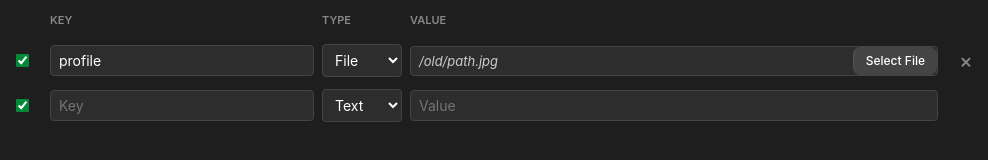
Test case: FormDataEditor.vue › handles file types and file selection
This screenshot has width=988, height=160.
expect the text with class "file-path" reads "/old/path.jpg": met, box x1=419 y1=52 x2=498 y2=68
# Change type to text
Select "Text" in the dropdown next to "/old/path.jpg" at x=362, y=60, box x1=322 y1=44 x2=402 y2=77
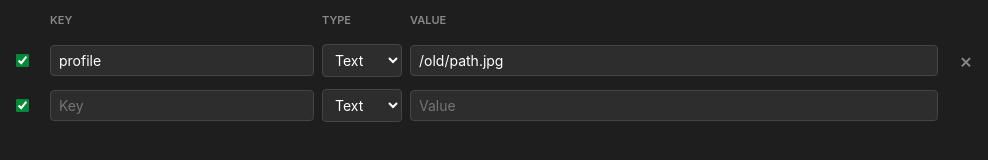
expect the 2nd field with placeholder "Value" is shown: met, box x1=410 y1=45 x2=938 y2=76
# Change back to file
Select "File" in the 1st dropdown at x=362, y=60, box x1=322 y1=44 x2=402 y2=77
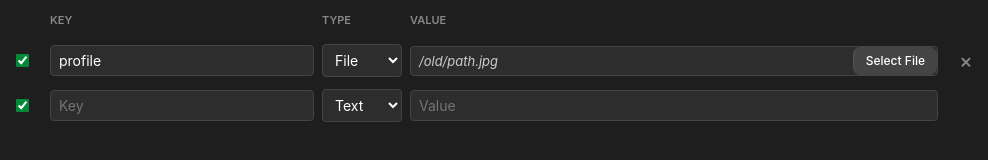
# Select file
Click the button with class "file-btn" at x=895, y=60, box x1=853 y1=46 x2=937 y2=74
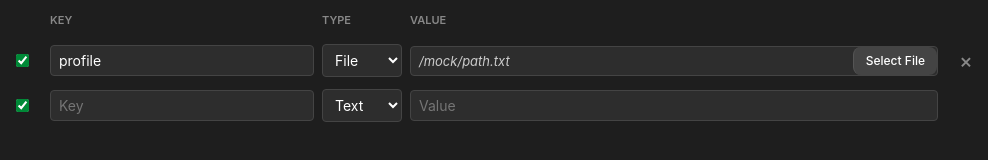
expect the text with class "file-path" reads "/mock/path.txt": met, box x1=419 y1=52 x2=510 y2=68
